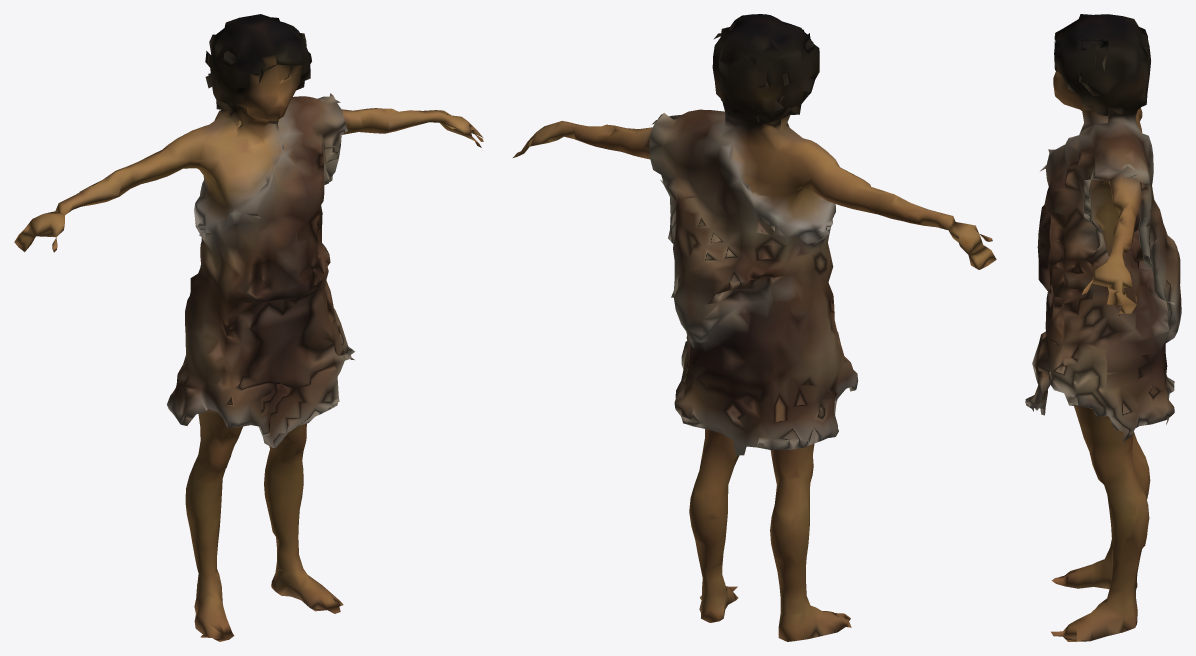
Rendered from hoehlenfrau.glb.
3 views of the same model, side by side, from view 1: azimuth 30°, elevation 25°; view 2: azimuth 150°, elevation 25°; view 3: azimuth 270°, elevation 25° (orthographic). The views are drawn at different scales.
Bounding box in the file's own units: 1.55 × 1.88 × 0.4497.
